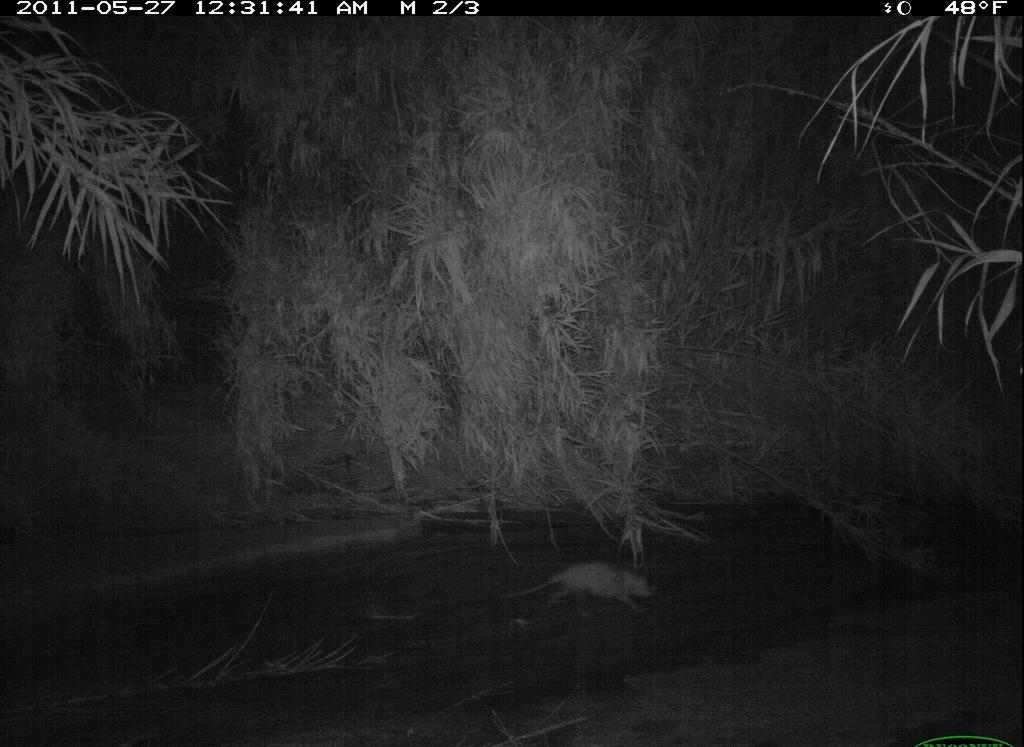opossum: (479, 544, 672, 625)
